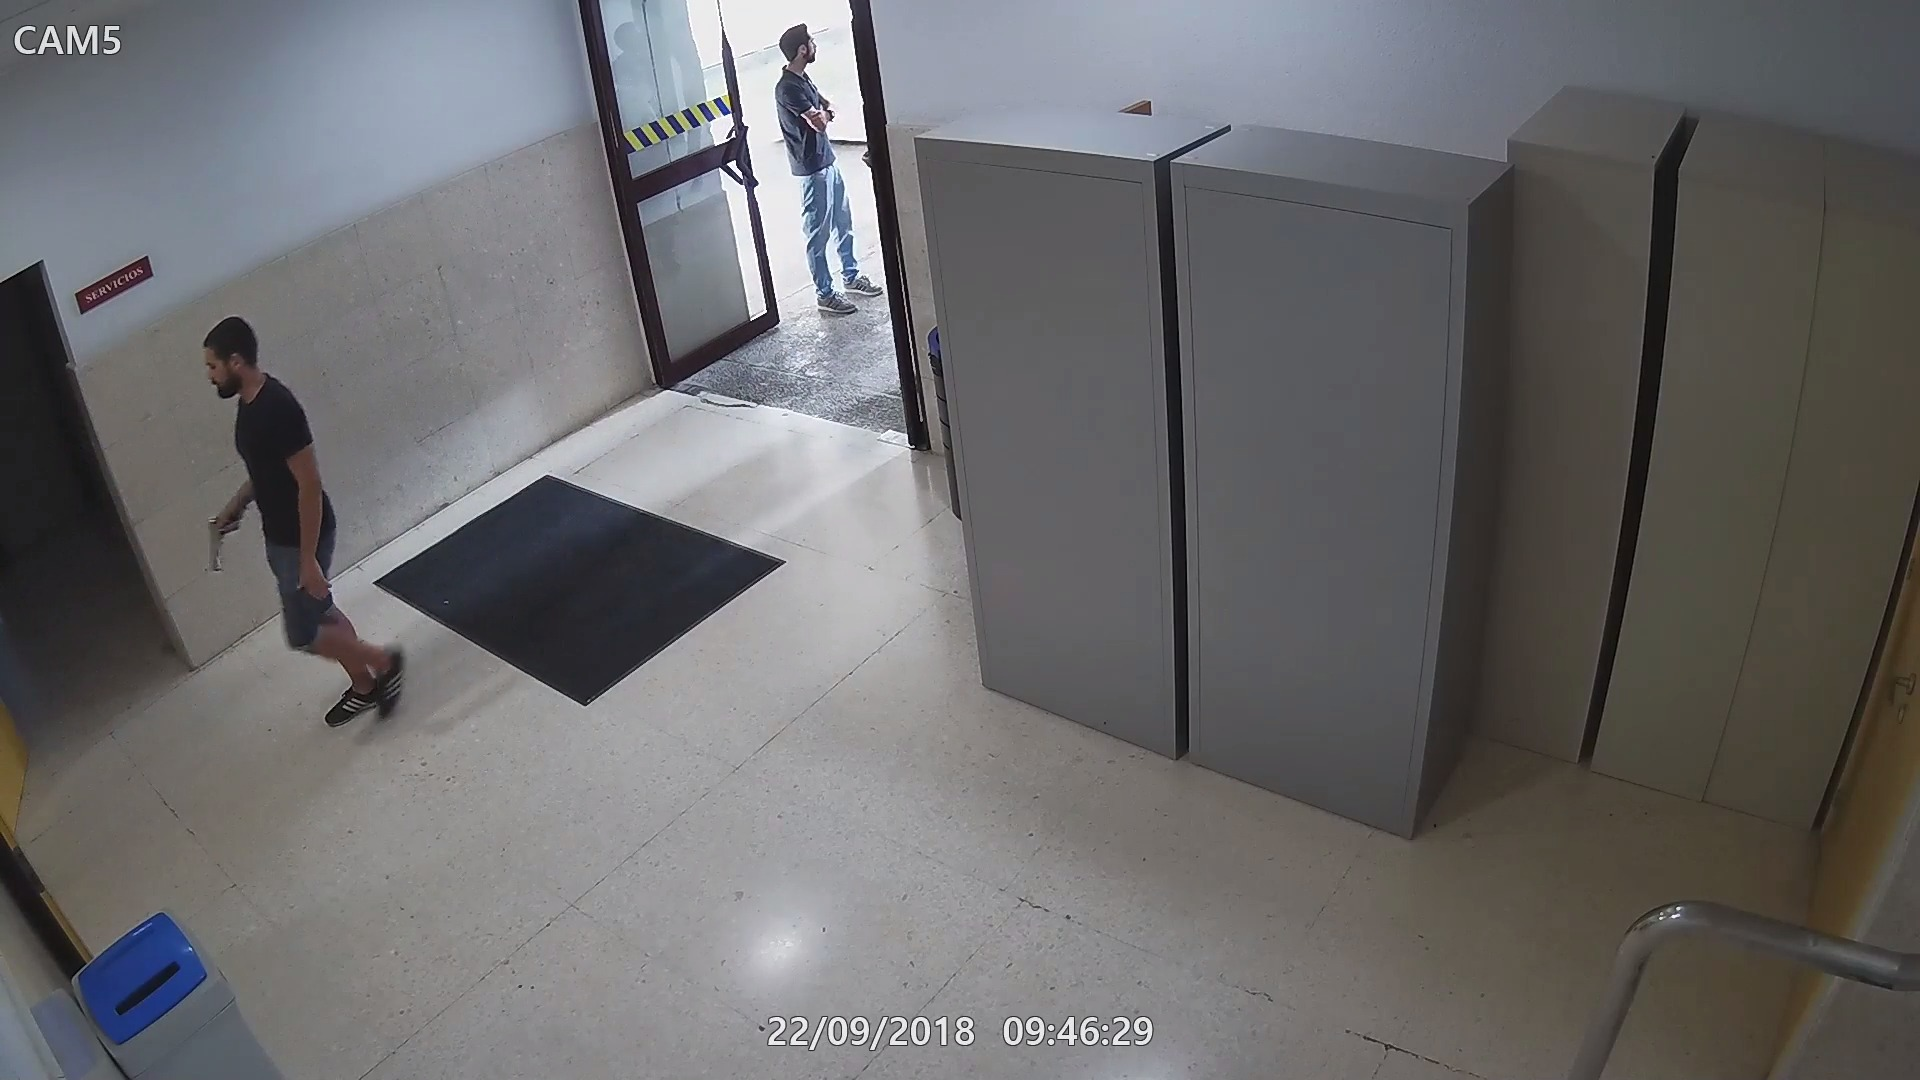Handgun: (203, 512, 245, 578)
